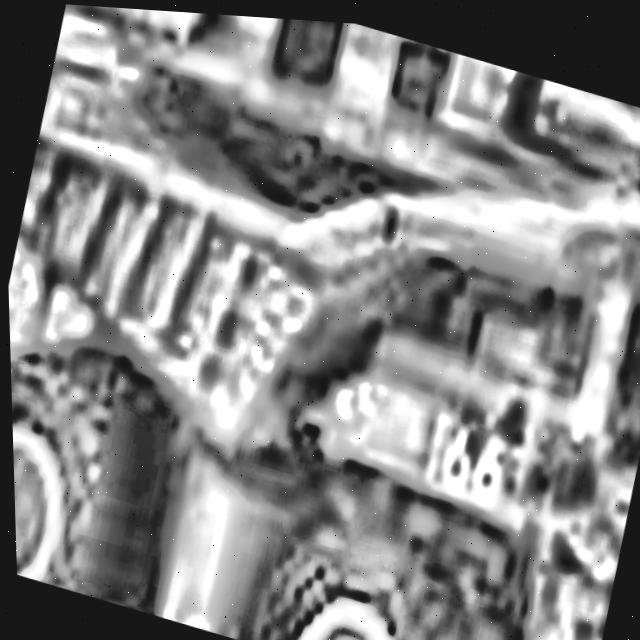dump_truck: (1, 22, 640, 640)
